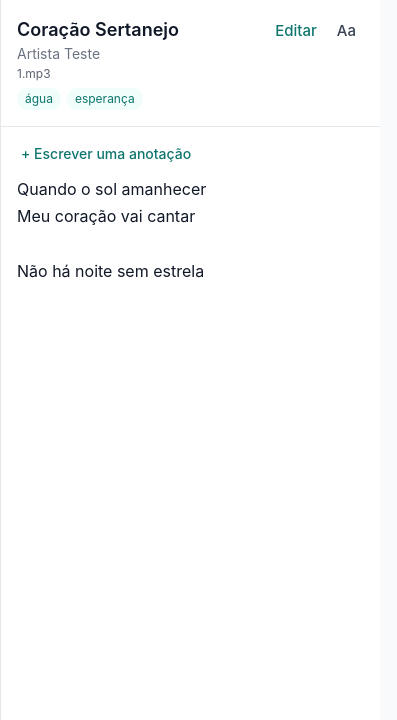
Test: LyricsPanel — modo de edição (V4 F10) › Cancelar descarta as alterações e volta ao modo leitura sem salvar
This screenshot has width=397, height=720.
Expected: the text with test id "lyrics-body" is shown, [17,179,206,281]
Click the button "Editar" at (296, 31), box [267,16,325,46]
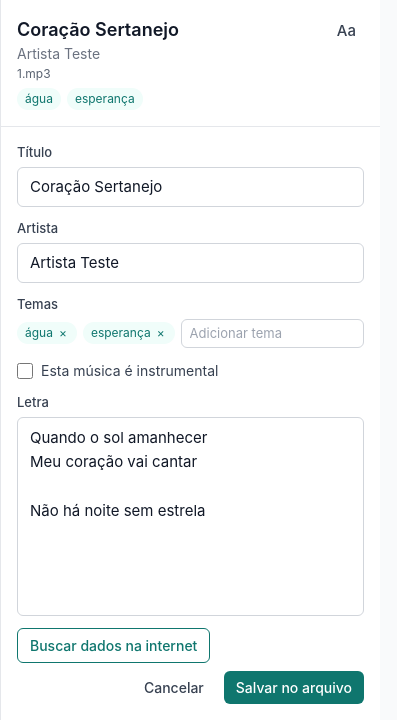
Replace the text in the field labelled "Título" with "Alterado" at (190, 187), box [17,166,364,207]
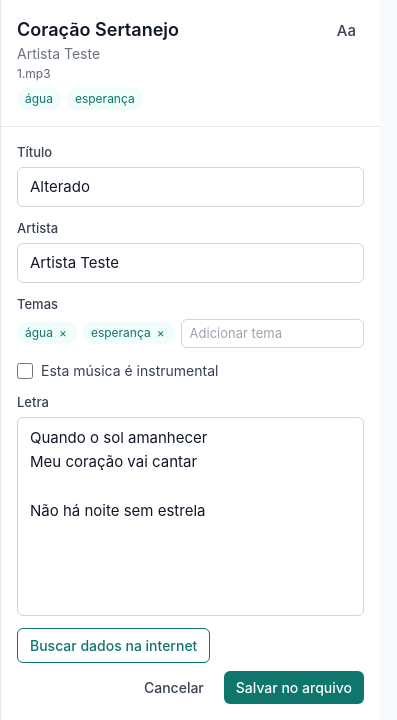
Click the button "Cancelar" at (174, 688), box [132,671,216,704]
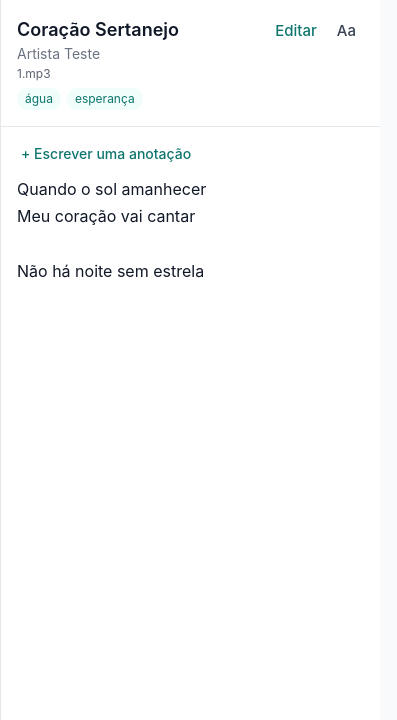
Expected: the heading "Coração Sertanejo" is shown, [17,16,179,43]
Expected: the text with test id "lyrics-body" is shown, [17,179,206,281]
Expected: the label labelled "Título" is gone
